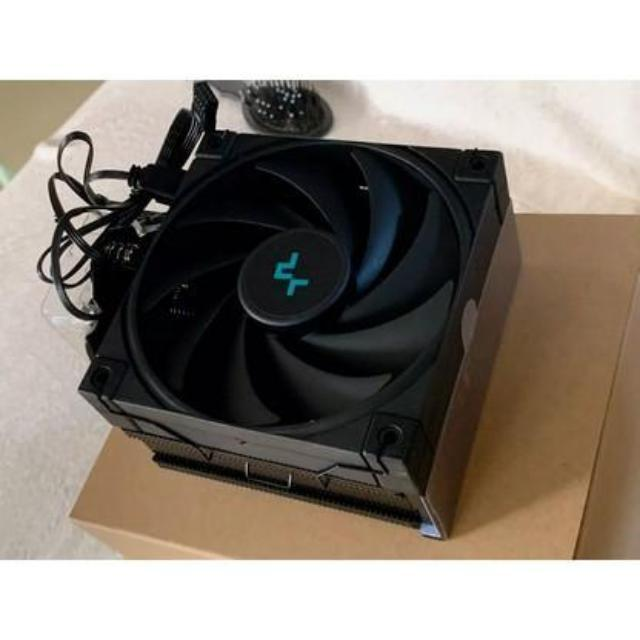CPU_Fan: (73, 122, 516, 544)
